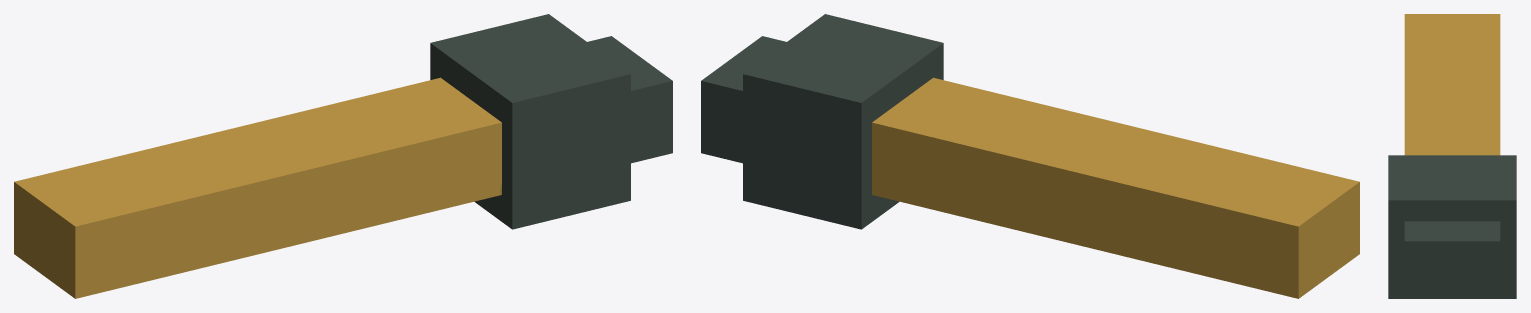
The model's file is bras.FBX.
3 views of the same model, side by side, from view 1: azimuth 30°, elevation 25°; view 2: azimuth 150°, elevation 25°; view 3: azimuth 270°, elevation 25° (orthographic). The views are drawn at different scales.
Parts seen in each view (by area): view 1: bras; view 2: bras; view 3: bras.
Boxes of the visible parts, x1,y1,x2,y2 form: bras: (14, 14, 672, 298); bras: (701, 14, 1359, 298); bras: (1388, 14, 1516, 298).
Size of the model in its own units: 362 by 73.21 by 86.12.
